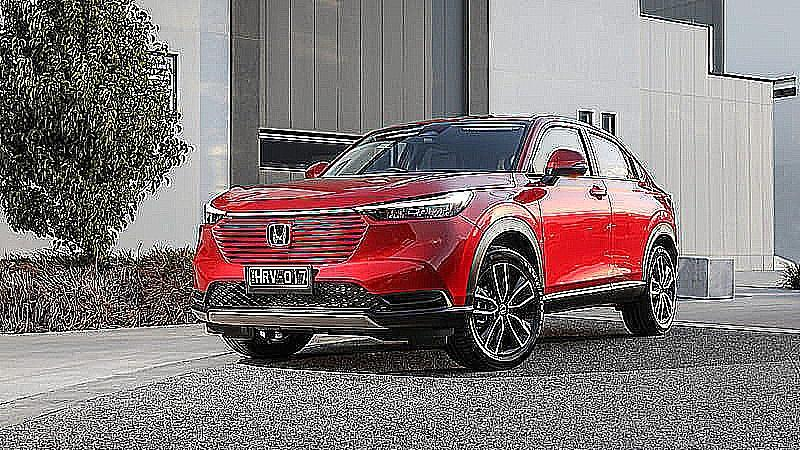Car hood: (210, 168, 520, 214)
Fender - -F-L-: (455, 168, 544, 299)
Fender - -R-L-: (649, 182, 678, 257)
Front bumper: (186, 216, 489, 338)
Headlight - -L-: (353, 187, 481, 225)
Headlight - -R-: (199, 197, 231, 227)
Passenger-s door - -F-L-: (537, 118, 613, 300)
Passenger-s door - -R-L-: (589, 126, 654, 294)
Side bumper - -L-: (539, 275, 650, 317)
Side mirror - -L-: (537, 145, 591, 190)
Side mirror - -R-: (301, 156, 335, 183)
